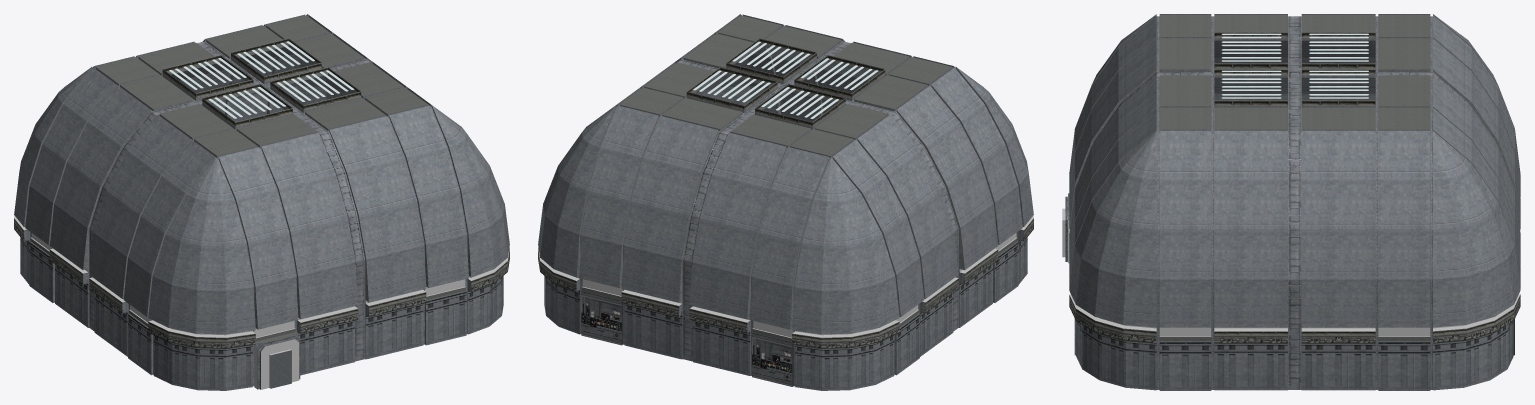
File: poi_all_impl_bunker_small_outpost_s01_r34_war_room_mesh.fbx
The picture shows the model from 3 angles, left to right: view 1: azimuth 30°, elevation 25°; view 2: azimuth 150°, elevation 25°; view 3: azimuth 270°, elevation 25°; orthographic projection. The views are drawn at different scales.
Parts seen in each view (by area): view 1: mesh_node; view 2: mesh_node; view 3: mesh_node.
Part boxes in pixels (left/top/right/bottom): mesh_node: left=14, top=14, right=509, bottom=390; mesh_node: left=538, top=14, right=1033, bottom=390; mesh_node: left=1062, top=14, right=1520, bottom=390.
Bounding box in the file's own units: 33 × 18.7 × 33.5.
